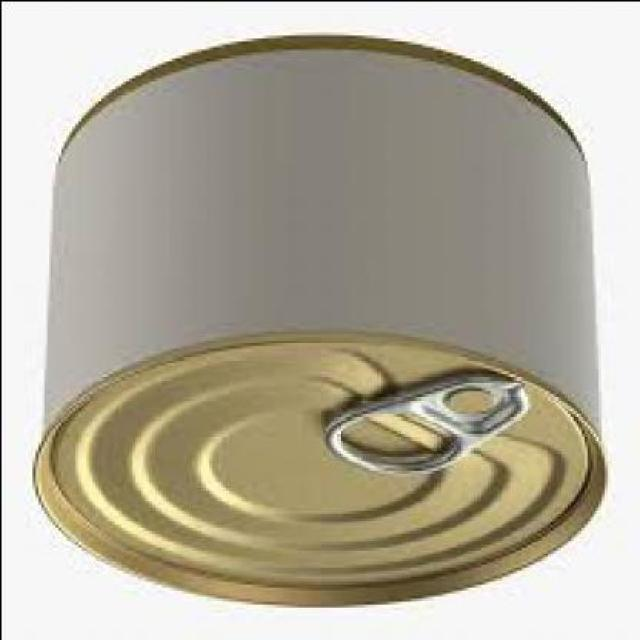METAL: (34, 42, 603, 608)
